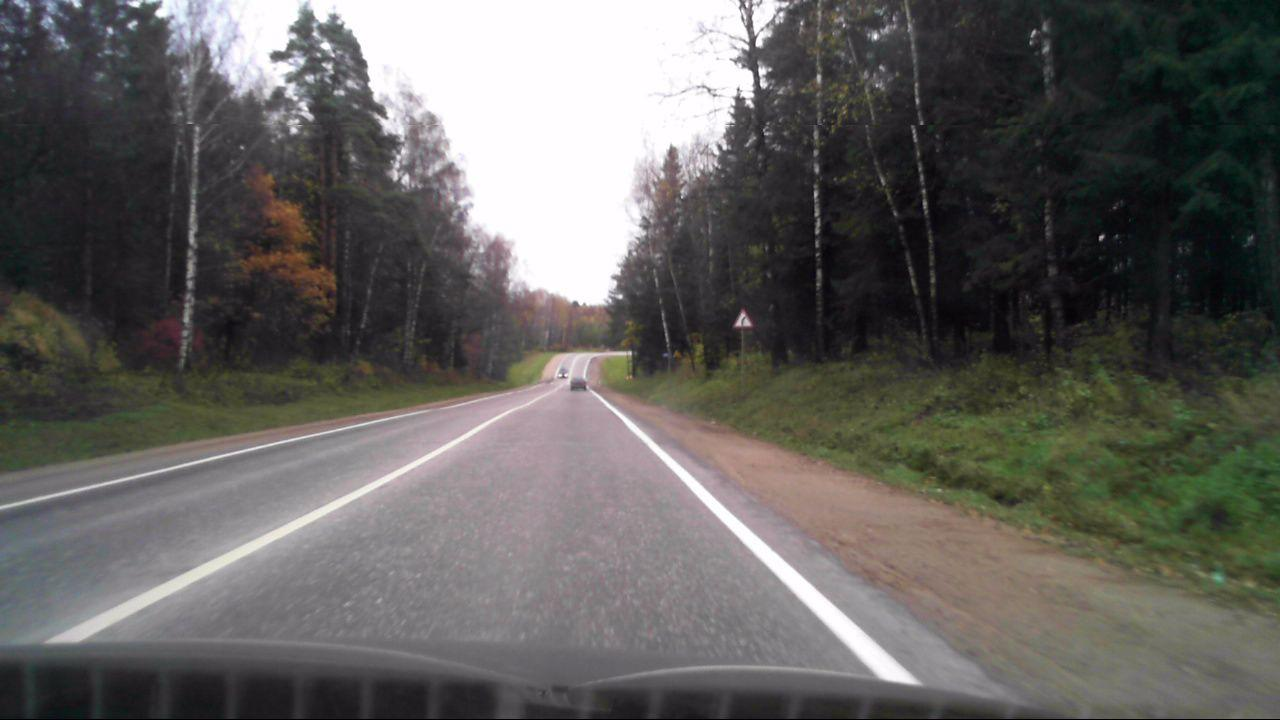1_11_1: (731, 308, 752, 329)
